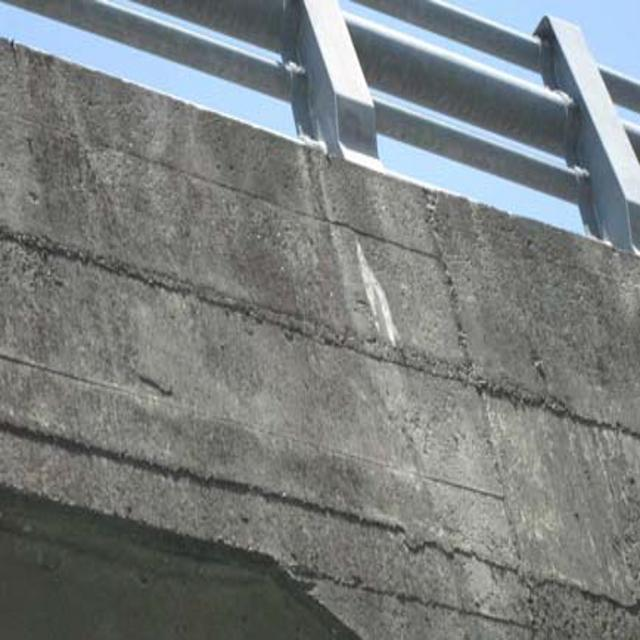freelime: (347, 214, 396, 359)
